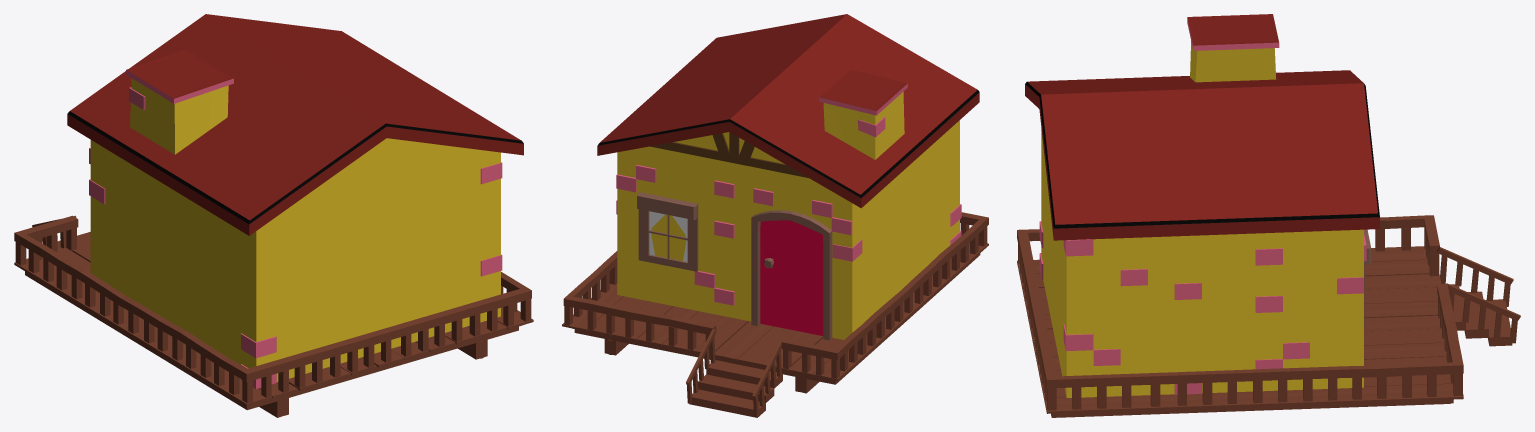
The model's file is House.fbx.
3 views of the same model, side by side, from view 1: azimuth 30°, elevation 25°; view 2: azimuth 150°, elevation 25°; view 3: azimuth 270°, elevation 25° (orthographic). The views are drawn at different scales.
Visible parts, largest first — view 1: Cube.001; view 2: Cube.001; view 3: Cube.001.
Part boxes in pixels (box(x1,y1,x2,y2)): Cube.001: box(14, 14, 533, 417); Cube.001: box(562, 14, 988, 417); Cube.001: box(1017, 14, 1520, 417).
Size of the model in its own units: 665 by 533 by 853.
